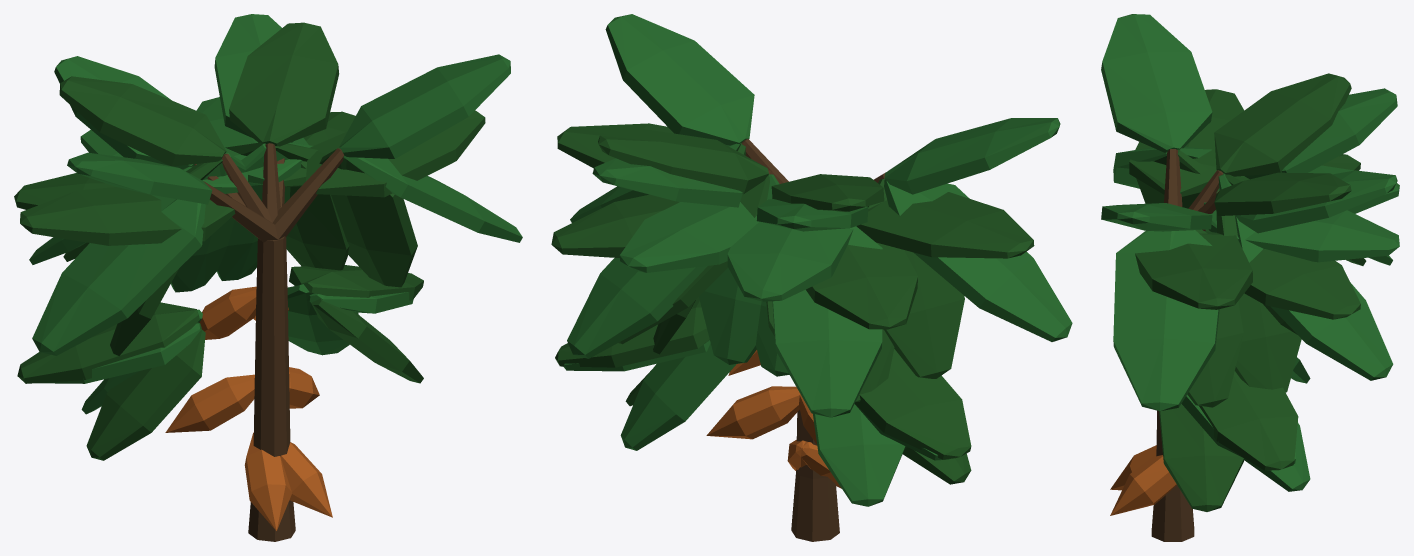
File: cocoa_tree.gltf
The picture shows the model from 3 angles, left to right: view 1: azimuth 30°, elevation 25°; view 2: azimuth 150°, elevation 25°; view 3: azimuth 270°, elevation 25°; orthographic projection. The views are drawn at different scales.
Visible parts, largest first — view 1: cocoa_tree; view 2: cocoa_tree; view 3: cocoa_tree.
Part boxes in pixels (x1,y1,x2,y2): cocoa_tree: (14,14,522,541); cocoa_tree: (551,14,1072,541); cocoa_tree: (1101,14,1399,541).
Size of the model in its own units: 3.44 by 3 by 1.94.
